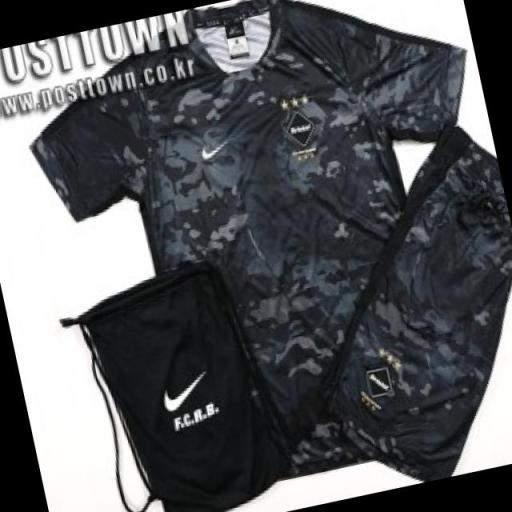Nike: (192, 134, 235, 164)
